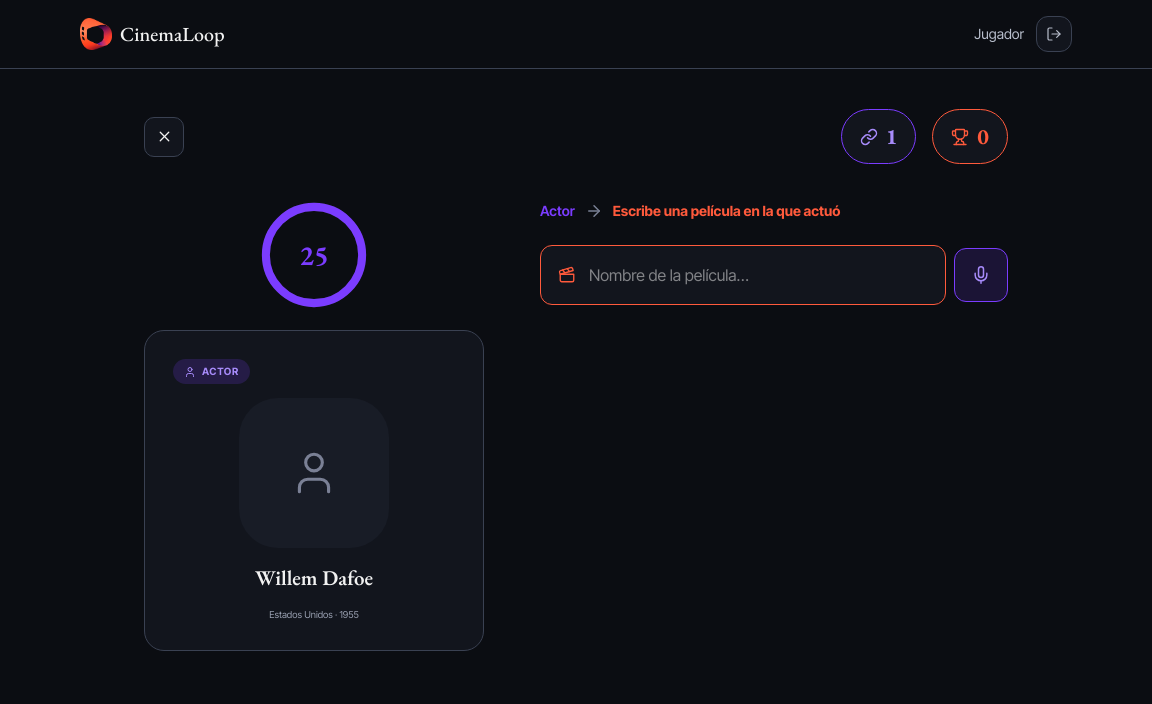
Test: PartidaPage › respuesta incorrecta: termina la partida y pide el resumen con finishGame
Type "Película que no existe" into the field with placeholder "Nombre de la película…" at [743, 275], box [540, 245, 946, 305]
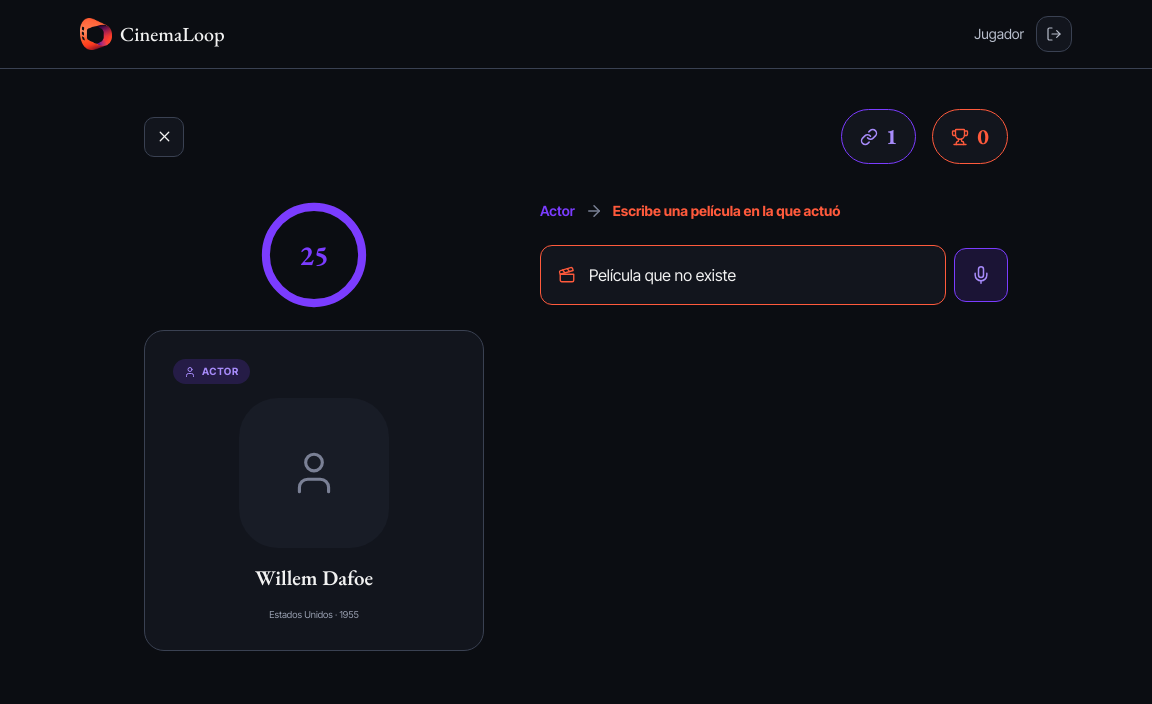
Submit the form with placeholder "Nombre de la película…", box [540, 245, 1008, 305]
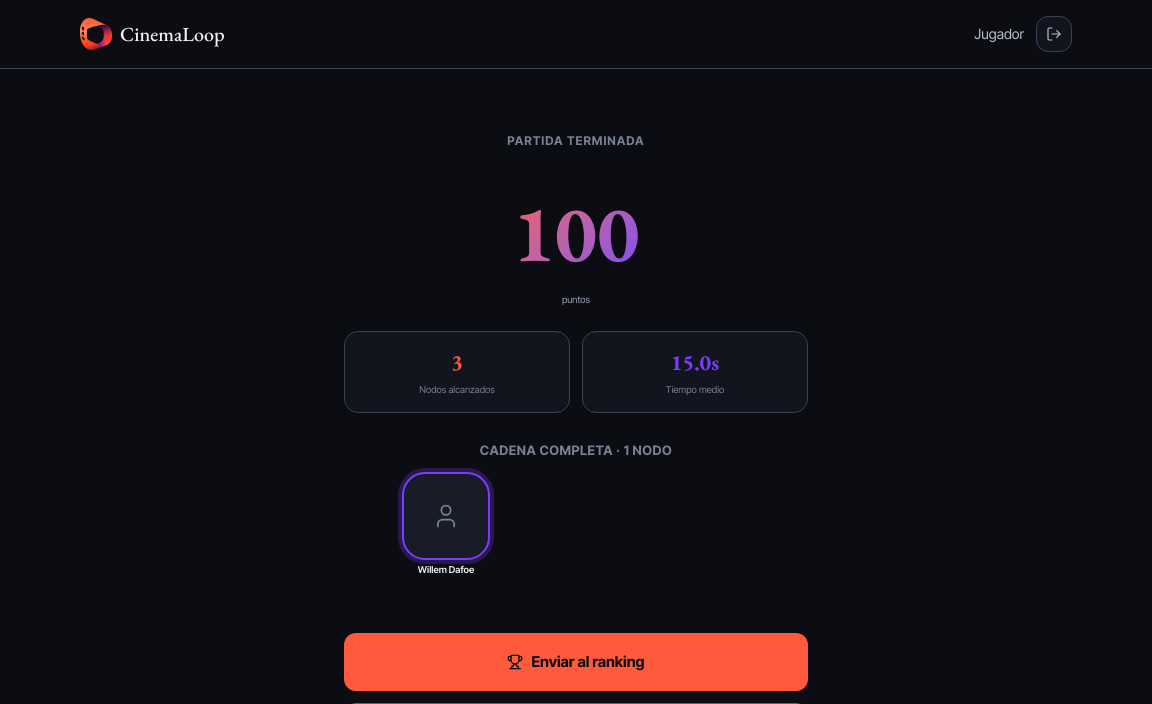
Expected: the text "Partida terminada" is shown, [507, 133, 645, 149]
Expected: the text "100" is shown, [512, 173, 640, 293]
Expected: the text "3" is shown, [451, 348, 463, 377]
